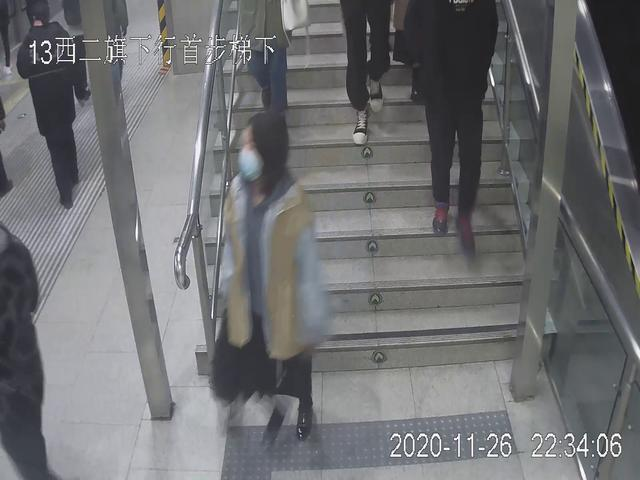person: (212, 115, 336, 446), (401, 1, 505, 261), (11, 1, 89, 213)
